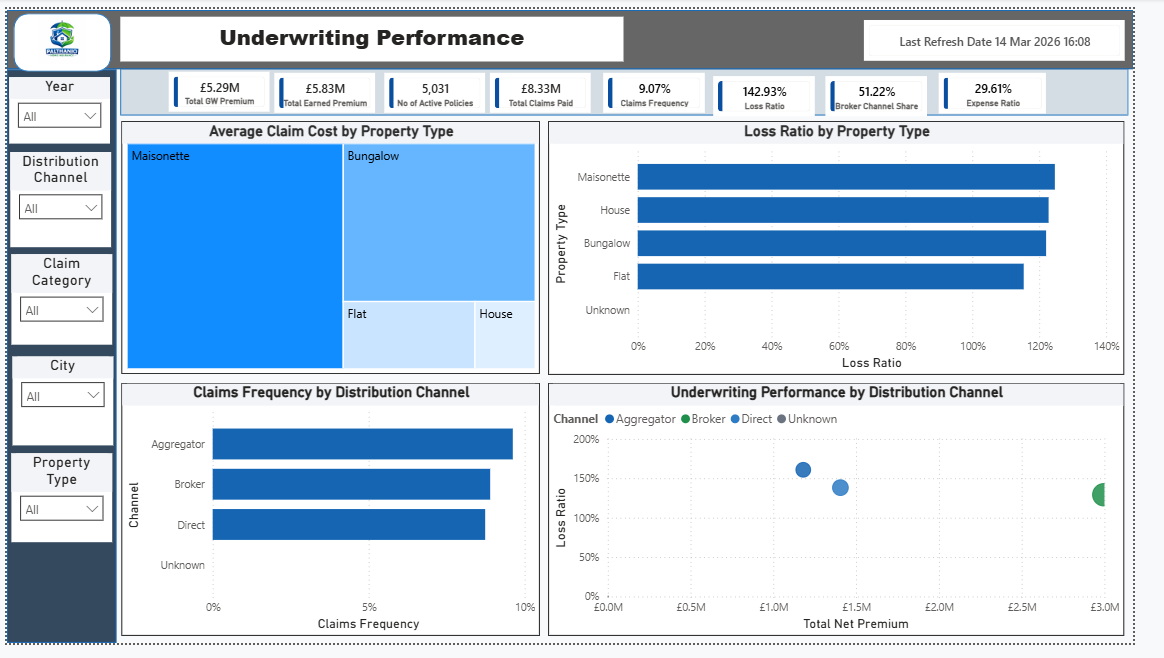

This screenshot's page, from the dashboard's own definition file:
{"tool":"powerbi","page":{"name":"Underwriting Performance","canvas":[1280,720],"ordinal":3},"visuals":[{"type":"group","id":"g1","title":"KPIs ","box":[129.1,67.8,1145.7,54.5],"z":0},{"type":"shape","title":"KPI Background","box":[129.1,67.8,1145.7,53.5],"z":0,"group":"g1"},{"type":"cardVisual","title":"Total Revenue","fields":{"Data":["_Measures.Total Gross Written Premium"]},"box":[183.7,71.5,114.2,45],"z":1000,"group":"g1"},{"type":"cardVisual","title":"Average Claim Cost","fields":{"Data":["_Measures.Expense Ratio"]},"box":[1058.9,72.2,122.2,46.7],"z":1000},{"type":"cardVisual","title":"Total Claims Paid","fields":{"Data":["_Measures.Total Earned Premium"]},"box":[303.7,72.6,114.2,45],"z":2000,"group":"g1"},{"type":"scatterChart","title":"Underwriting Performance by Distribution Channel","fields":{"X":["_Measures.Total Net Premium"],"Y":["_Measures.Loss Ratio"],"Size":["_Measures.No of Policies"],"Series":["gold dim_broker.Channel"]},"box":[615.4,425.3,654.8,286.9],"z":2000},{"type":"cardVisual","title":"Claims Frequency","fields":{"Data":["_Measures.Loss Ratio"]},"box":[803.3,75.9,115,45],"z":3000,"group":"g1"},{"type":"clusteredBarChart","title":"Loss Ratio by Property Type","fields":{"Category":["gold dim_address.PropertyType"],"Y":["_Measures.Loss Ratio"]},"box":[615.4,127.1,654.8,288],"z":3000},{"type":"cardVisual","title":"Loss Ratio","fields":{"Data":["_Measures.Claims Frequency"]},"box":[677.5,72.6,115,45],"z":4000,"group":"g1"},{"type":"clusteredBarChart","title":"Claims Frequency by Distribution Channel","fields":{"Category":["gold dim_broker.Channel"],"Y":["_Measures.Claims Frequency"]},"box":[130.5,425.3,475.9,286.9],"z":4000},{"type":"cardVisual","title":"No. Of Active Policies","fields":{"Data":["_Measures.No of Active Policies"]},"box":[428.7,72.6,114.2,45],"z":5000,"group":"g1"},{"type":"treemap","title":"Average Claim Cost by Property Type","fields":{"Group":["gold dim_address.PropertyType"],"Values":["_Measures.Average Claim Cost"]},"box":[130.5,127.1,475.9,286.9],"z":5000},{"type":"shape","title":"Deep Blue Header ","box":[0,68.6,124.3,651.4],"z":6000},{"type":"cardVisual","title":"No. Of Claims","fields":{"Data":["_Measures.Total Claims Paid (Report)"]},"box":[549.1,72.6,114.2,45],"z":6000,"group":"g1"},{"type":"shape","title":"Deep Blue Header ","box":[0,1.4,1280,67.1],"z":7000},{"type":"cardVisual","title":"Average Claim Cost","fields":{"Data":["_Measures.Broker Channel Share"]},"box":[930,76.8,115.6,45.6],"z":7000,"group":"g1"},{"type":"textbox","title":"Executive Summary","box":[129.2,8.5,571.5,50.8],"z":8000},{"type":"shape","title":"Logo Background","box":[6.9,5.4,110.8,66.2],"z":9000},{"type":"image","title":"Logo","box":[19.4,8.2,85.3,54.1],"z":10000},{"type":"slicer","title":"Year","fields":{"Values":["gold dim_date.YearNumber"]},"box":[2.7,77.3,114.5,75.5],"z":11000},{"type":"slicer","title":"Claim Category","fields":{"Values":["gold dim_claim_type.ClaimType"]},"box":[5.5,279.1,114.5,102.7],"z":12000},{"type":"slicer","title":"City","fields":{"Values":["gold dim_address.City"]},"box":[6.7,394.4,114.4,101.1],"z":13000},{"type":"slicer","title":"Distribution Channel","fields":{"Values":["gold dim_broker.Channel"]},"box":[3.6,162.7,114.5,108.2],"z":14000},{"type":"cardVisual","title":"Average Claim Cost","fields":{"Data":["_Measures.Last Refresh Date"]},"box":[973.3,12.2,296.7,46.7],"z":15000},{"type":"slicer","title":"Property Type","fields":{"Values":["gold dim_address.PropertyType"]},"box":[5.6,504.4,114.4,101.1],"z":16000}]}

Visuals, with their boxes in screenshot pixels (x1, y1, x2, y2), scaled from the page's 1280x720 canvas onto the 1164x658 screenshot:
"KPIs " group: l=117, t=62, r=1159, b=112
"KPI Background" shape: l=117, t=62, r=1159, b=111
"Total Revenue" cardVisual: l=167, t=65, r=271, b=106
"Average Claim Cost" cardVisual: l=963, t=66, r=1074, b=109
"Total Claims Paid" cardVisual: l=276, t=66, r=380, b=107
"Underwriting Performance by Distribution Channel" scatterChart: l=560, t=389, r=1155, b=651
"Claims Frequency" cardVisual: l=731, t=69, r=835, b=110
"Loss Ratio by Property Type" clusteredBarChart: l=560, t=116, r=1155, b=379
"Loss Ratio" cardVisual: l=616, t=66, r=721, b=107
"Claims Frequency by Distribution Channel" clusteredBarChart: l=119, t=389, r=551, b=651
"No. Of Active Policies" cardVisual: l=390, t=66, r=494, b=107
"Average Claim Cost by Property Type" treemap: l=119, t=116, r=551, b=378
"Deep Blue Header " shape: l=0, t=63, r=113, b=657
"No. Of Claims" cardVisual: l=499, t=66, r=603, b=107
"Deep Blue Header " shape: l=0, t=1, r=1163, b=63
"Average Claim Cost" cardVisual: l=846, t=70, r=951, b=112
"Executive Summary" textbox: l=117, t=8, r=637, b=54
"Logo Background" shape: l=6, t=5, r=107, b=65
"Logo" image: l=18, t=7, r=95, b=57
"Year" slicer: l=2, t=71, r=107, b=140
"Claim Category" slicer: l=5, t=255, r=109, b=349
"City" slicer: l=6, t=360, r=110, b=453
"Distribution Channel" slicer: l=3, t=149, r=107, b=248
"Average Claim Cost" cardVisual: l=885, t=11, r=1155, b=54
"Property Type" slicer: l=5, t=461, r=109, b=553
